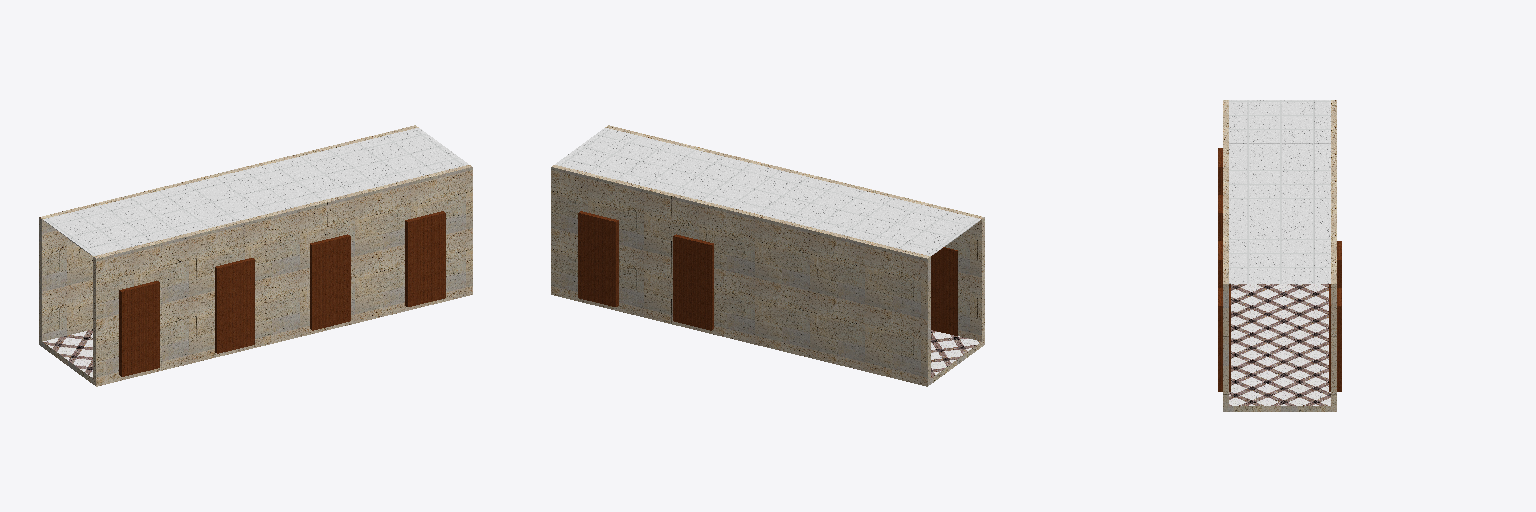
The picture shows the model from 3 angles: view 1: azimuth 30°, elevation 25°; view 2: azimuth 150°, elevation 25°; view 3: azimuth 270°, elevation 25°; orthographic projection.
Parts seen in each view (by area): view 1: hallway.028, roof_hallway.028, door_elevator.116; view 2: hallway.028, roof_hallway.028, door_elevator.113, door_elevator.116; view 3: roof_hallway.028, hallway.028, door_elevator.116, door_elevator.113.
Part boxes in pixels (x1,y1,x2,y2): hallway.028: (39, 125, 472, 386); roof_hallway.028: (43, 128, 468, 255); door_elevator.116: (119, 211, 445, 376); hallway.028: (551, 125, 984, 386); roof_hallway.028: (555, 128, 980, 255); door_elevator.113: (578, 211, 713, 330); door_elevator.116: (931, 247, 957, 335); roof_hallway.028: (1229, 100, 1330, 283); hallway.028: (1223, 100, 1336, 411); door_elevator.116: (1218, 148, 1230, 391); door_elevator.113: (1329, 241, 1341, 391).
Bounding box in the file's own units: 3.43 × 1.11 × 0.9786.
Materials: 5 (4 with a texture image).